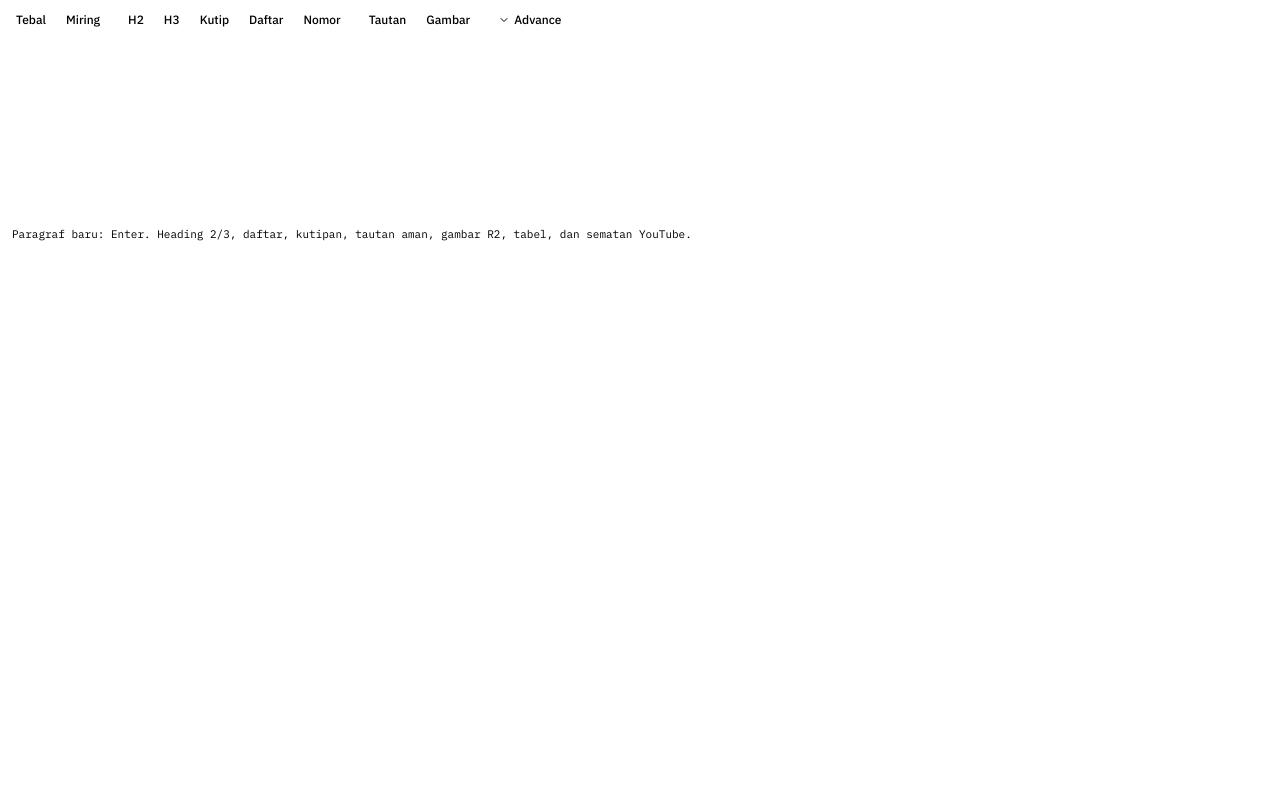
Test: RichTextEditor › menyediakan pemilih galeri multi-berkas hingga 4 gambar
Click the button with aria-label "Sisipkan gambar".
click(448, 20)  # box [418, 8, 478, 32]
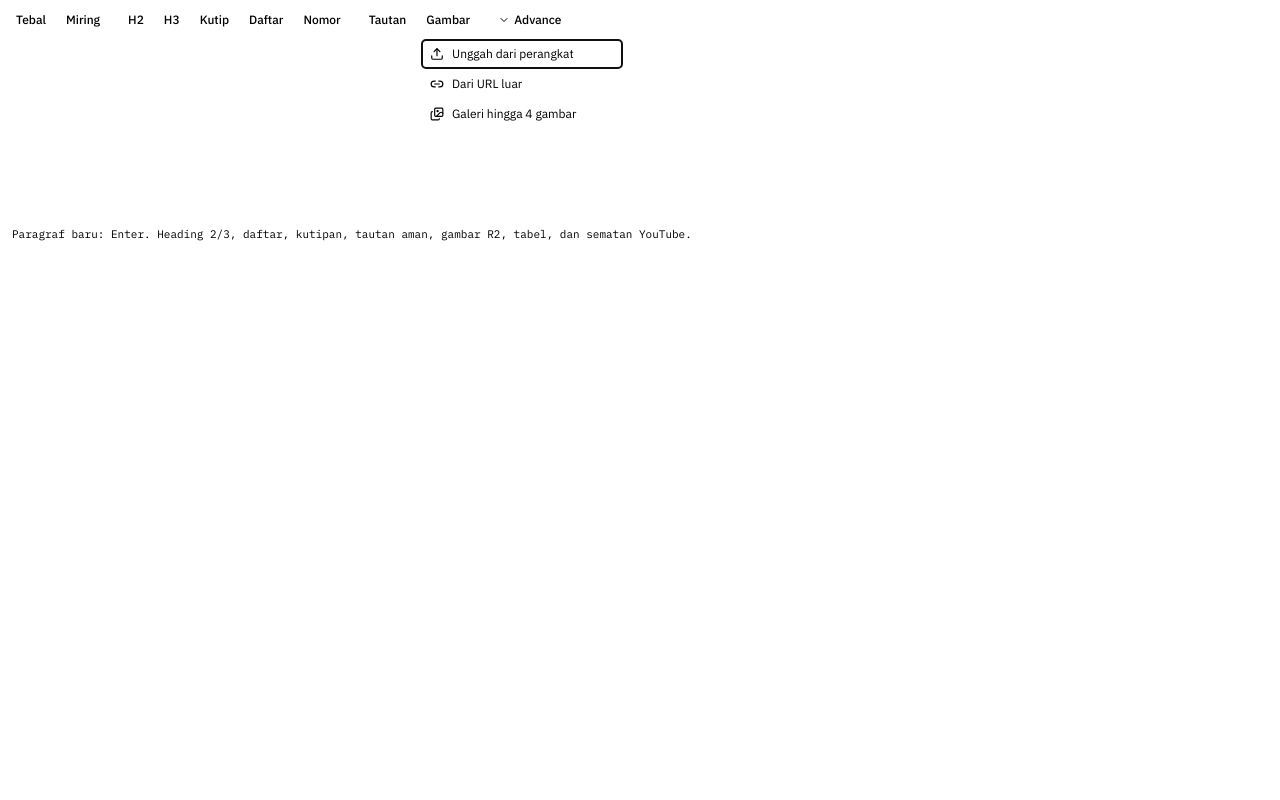
expect the menu item "Galeri hingga 4 gambar" is shown: met, box [422, 100, 622, 128]
